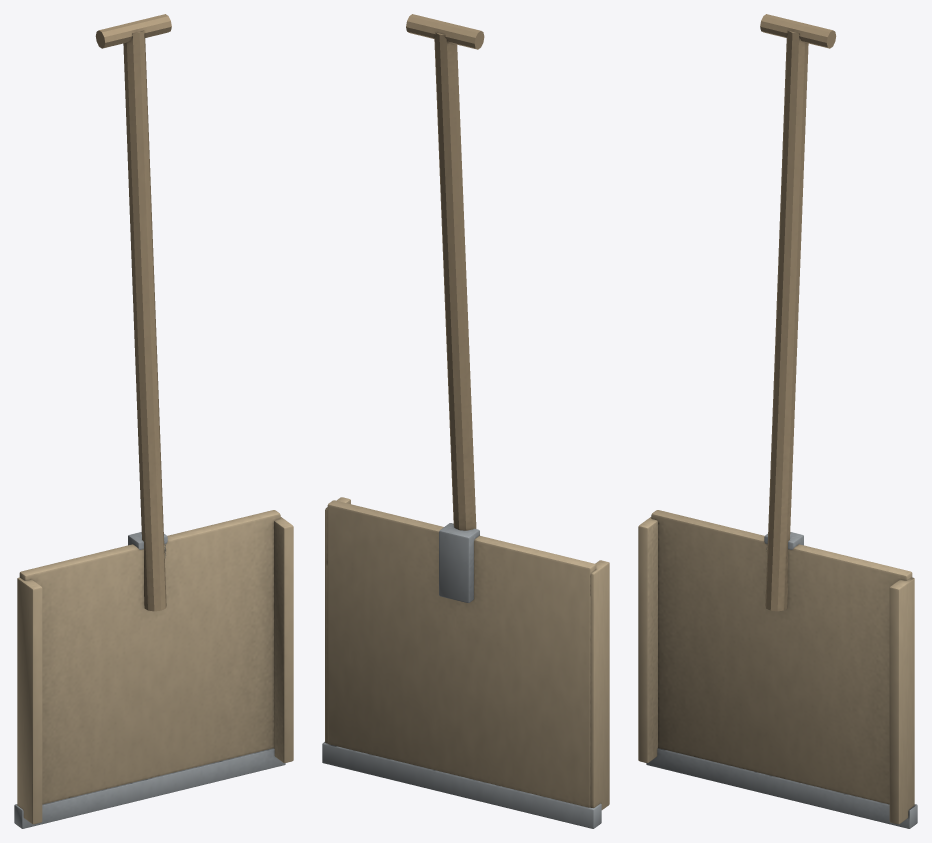
File: snow_shovel_wood.glb
3 renders of one model, left to right at view 1: azimuth 30°, elevation 25°; view 2: azimuth 150°, elevation 25°; view 3: azimuth 330°, elevation 25°, orthographic. The views are drawn at different scales.
Parts seen in each view (by area): view 1: snow_shovel_wood; view 2: snow_shovel_wood; view 3: snow_shovel_wood.
Boxes of the visible parts, x1,y1,x2,y2 form: snow_shovel_wood: [14, 14, 293, 828]; snow_shovel_wood: [322, 14, 609, 828]; snow_shovel_wood: [638, 14, 917, 828].
Bounding box in the file's own units: 0.515 × 1.42 × 0.1191.
1 material, 1 textured.
